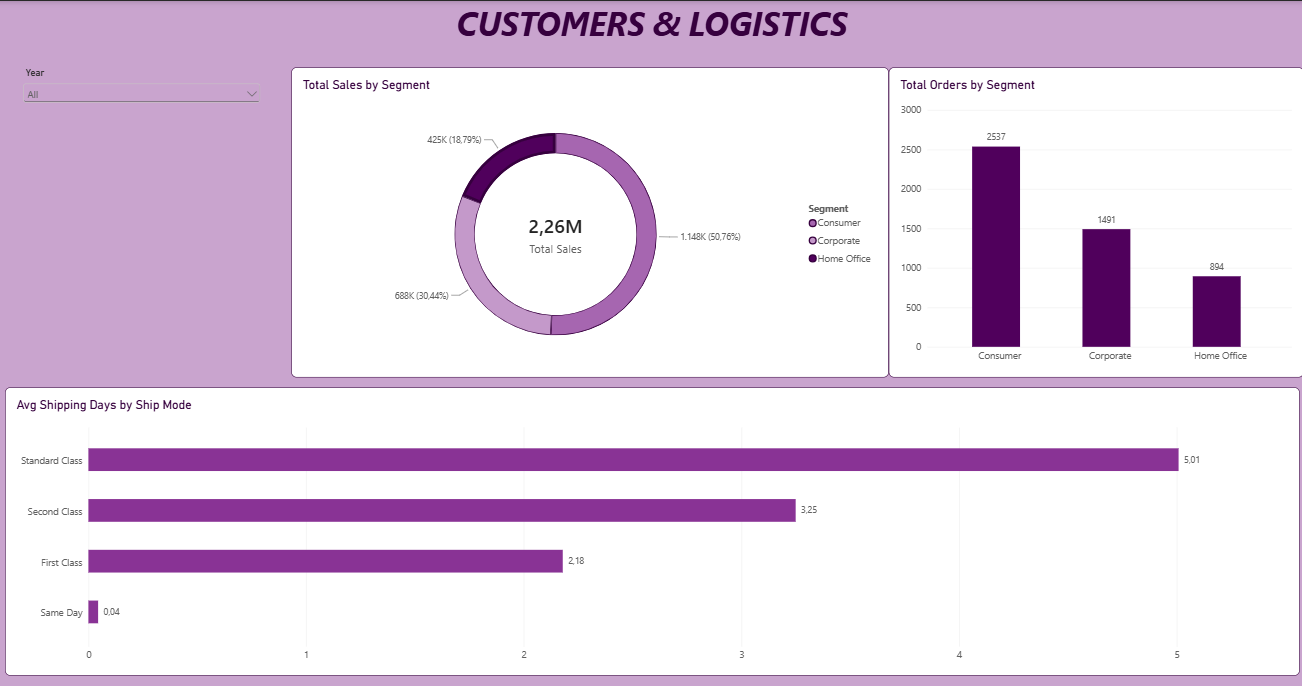

The page's visual inventory and layout, read from the dashboard file:
{"tool":"powerbi","page":{"name":"Customers & Logistics","canvas":[1920,1080],"ordinal":2},"visuals":[{"type":"textbox","box":[0,0,1919.6,97.5],"z":0},{"type":"donutChart","fields":{"Category":["Dim_Customer.Segment"],"Y":["Measures (2).Total Sales"]},"box":[428.8,97.5,879.8,456.4],"z":1},{"type":"clusteredColumnChart","fields":{"Category":["Dim_Customer.Segment"],"Y":["Measures (2).Total Orders"]},"box":[1308.6,97.5,611,456.4],"z":2},{"type":"clusteredBarChart","fields":{"Category":["Fact_Orders.Ship Mode"],"Y":["Measures (2).Avg Shipping Days"]},"box":[7.4,568.7,1906.8,425.2],"z":3},{"type":"slicer","fields":{"Values":["Dim_Date.Year"]},"box":[29.4,97.5,358.9,441.7],"z":4}]}

Visuals, with their boxes on the page's 1920x1080 design canvas (x1, y1, x2, y2). These are canvas units, not pixel positions in the 1302x686 screenshot, which may show the page scaled, cropped or inside an application window:
textbox: (0,0,1920,98)
donutChart - Dim_Customer.Segment x Measures (2).Total Sales: (429,98,1309,554)
clusteredColumnChart - Dim_Customer.Segment x Measures (2).Total Orders: (1309,98,1920,554)
clusteredBarChart - Fact_Orders.Ship Mode x Measures (2).Avg Shipping Days: (7,569,1914,994)
slicer - Dim_Date.Year: (29,98,388,539)
